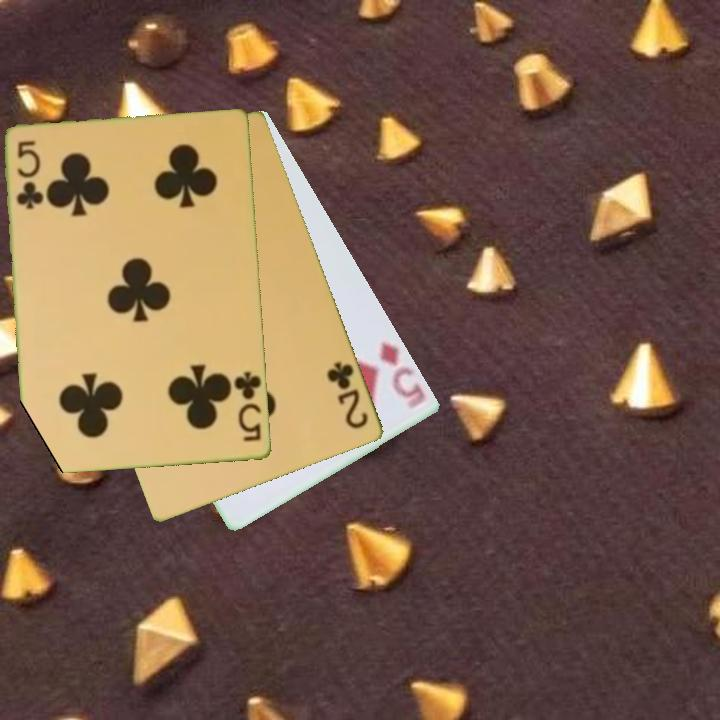2c: (323, 358, 372, 432)
5c: (231, 369, 265, 445), (13, 137, 45, 213)
5d: (377, 338, 429, 412)
